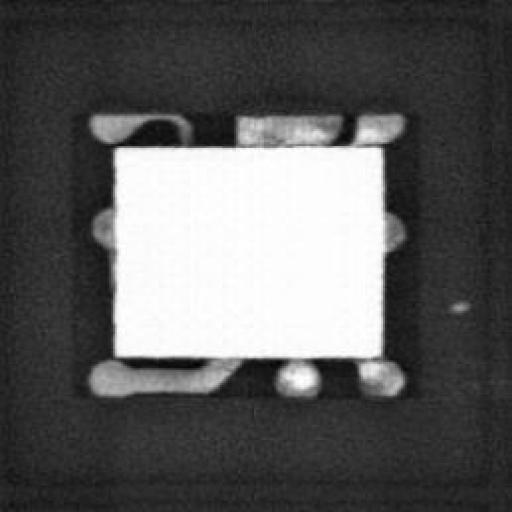DIE_INK: (446, 296, 472, 313)
